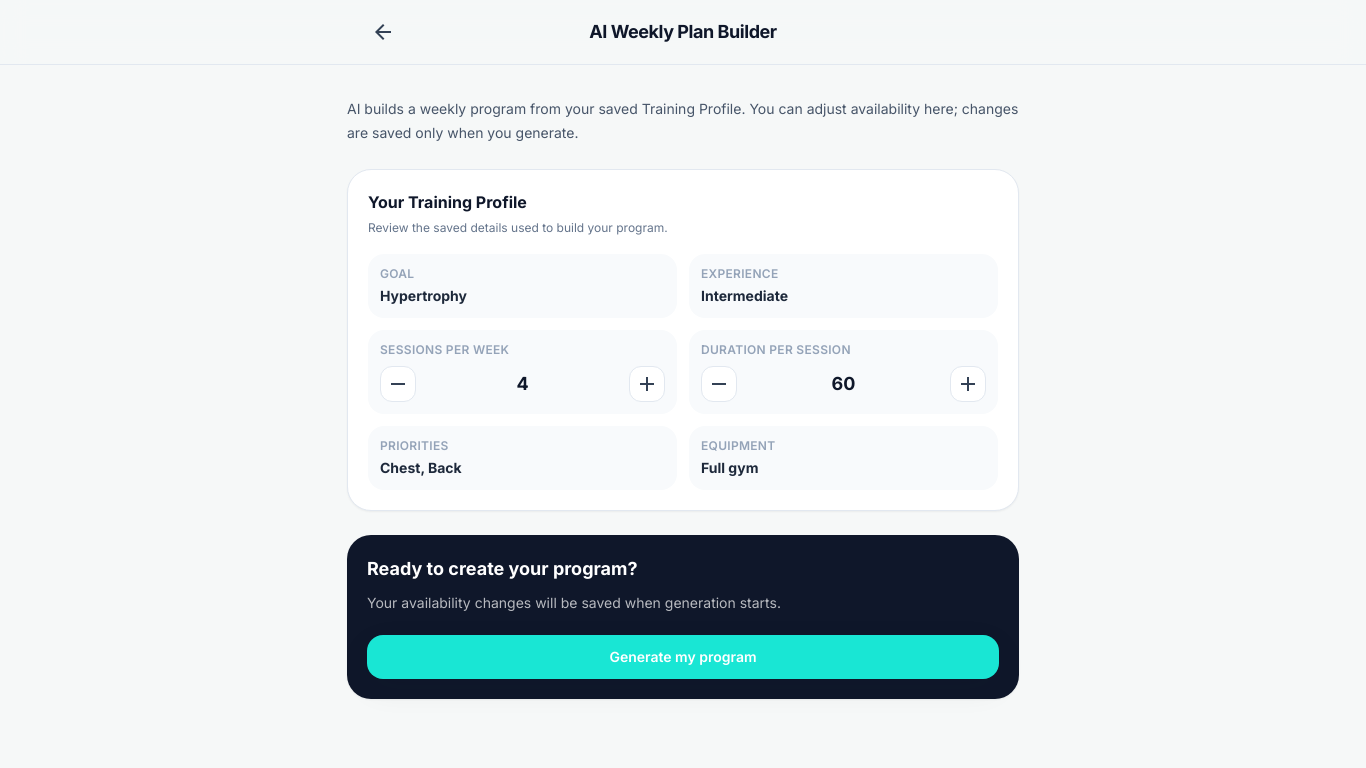
Test: successful result application copy is entirely English
Expected: the text "Hypertrophy" is shown, [380, 287, 467, 304]
Click the button "Generate my program" at (683, 657), box [367, 635, 999, 679]
(page scrolled)
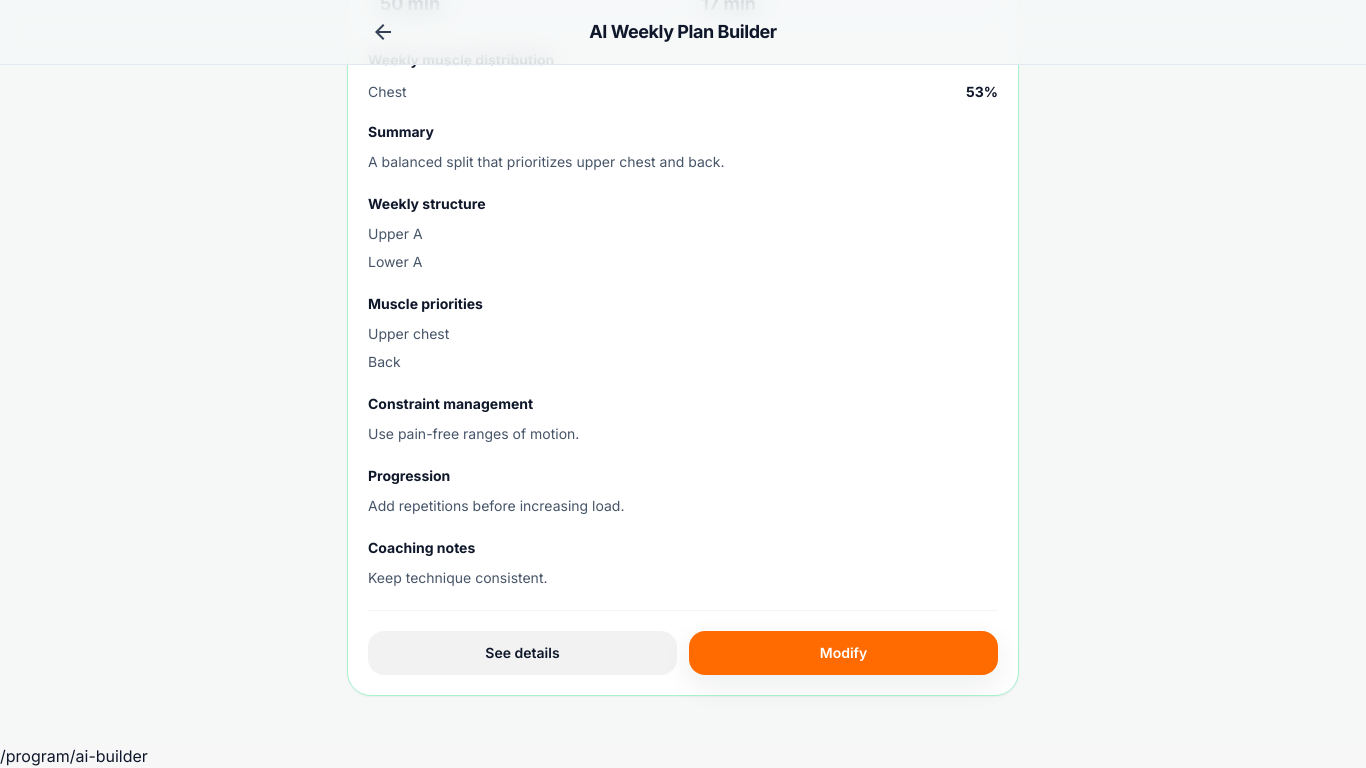
Expected: the heading "Weekly muscle distribution" is shown, [368, 51, 554, 68]
Expected: the heading "Summary" is shown, [368, 123, 434, 140]
Expected: the heading "Weekly structure" is shown, [368, 195, 486, 212]
